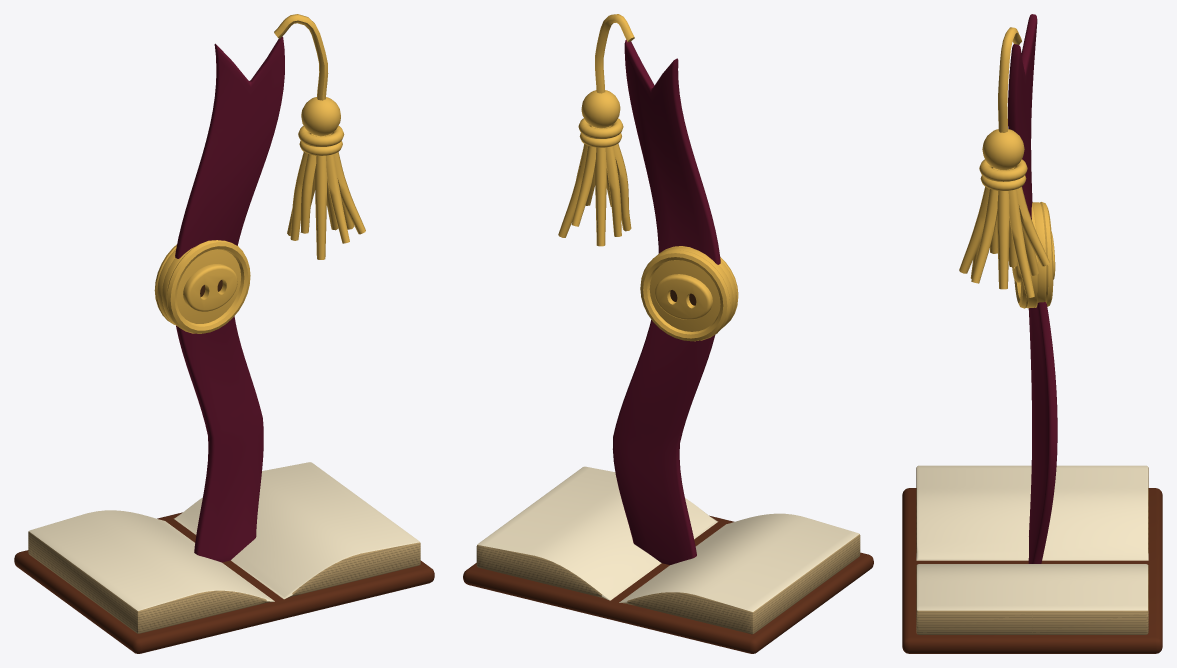
Rendered from bookmark_checkpoint.glb.
3 renders of one model, left to right at view 1: azimuth 30°, elevation 25°; view 2: azimuth 150°, elevation 25°; view 3: azimuth 270°, elevation 25°, orthographic. The views are drawn at different scales.
Parts seen in each view (by area): view 1: Book, Ribbon, Tassel, Clasp; view 2: Book, Ribbon, Tassel, Clasp; view 3: Book, Tassel, Ribbon, Clasp.
Part boxes in pixels (x1=…): Book: x1=14, y1=462, x2=434, y2=653; Ribbon: x1=175, y1=36, x2=284, y2=562; Tassel: x1=274, y1=14, x2=365, y2=259; Clasp: x1=154, y1=240, x2=250, y2=333; Book: x1=463, y1=466, x2=873, y2=653; Ribbon: x1=612, y1=39, x2=720, y2=564; Tassel: x1=558, y1=14, x2=634, y2=246; Clasp: x1=640, y1=246, x2=738, y2=341; Book: x1=902, y1=465, x2=1162, y2=653; Tassel: x1=959, y1=27, x2=1049, y2=298; Ribbon: x1=1008, y1=14, x2=1057, y2=563; Clasp: x1=1012, y1=202, x2=1055, y2=308.
Size of the model in its own units: 1.03 by 1.8 by 0.7311.
Materials: 6 (1 with a texture image).
